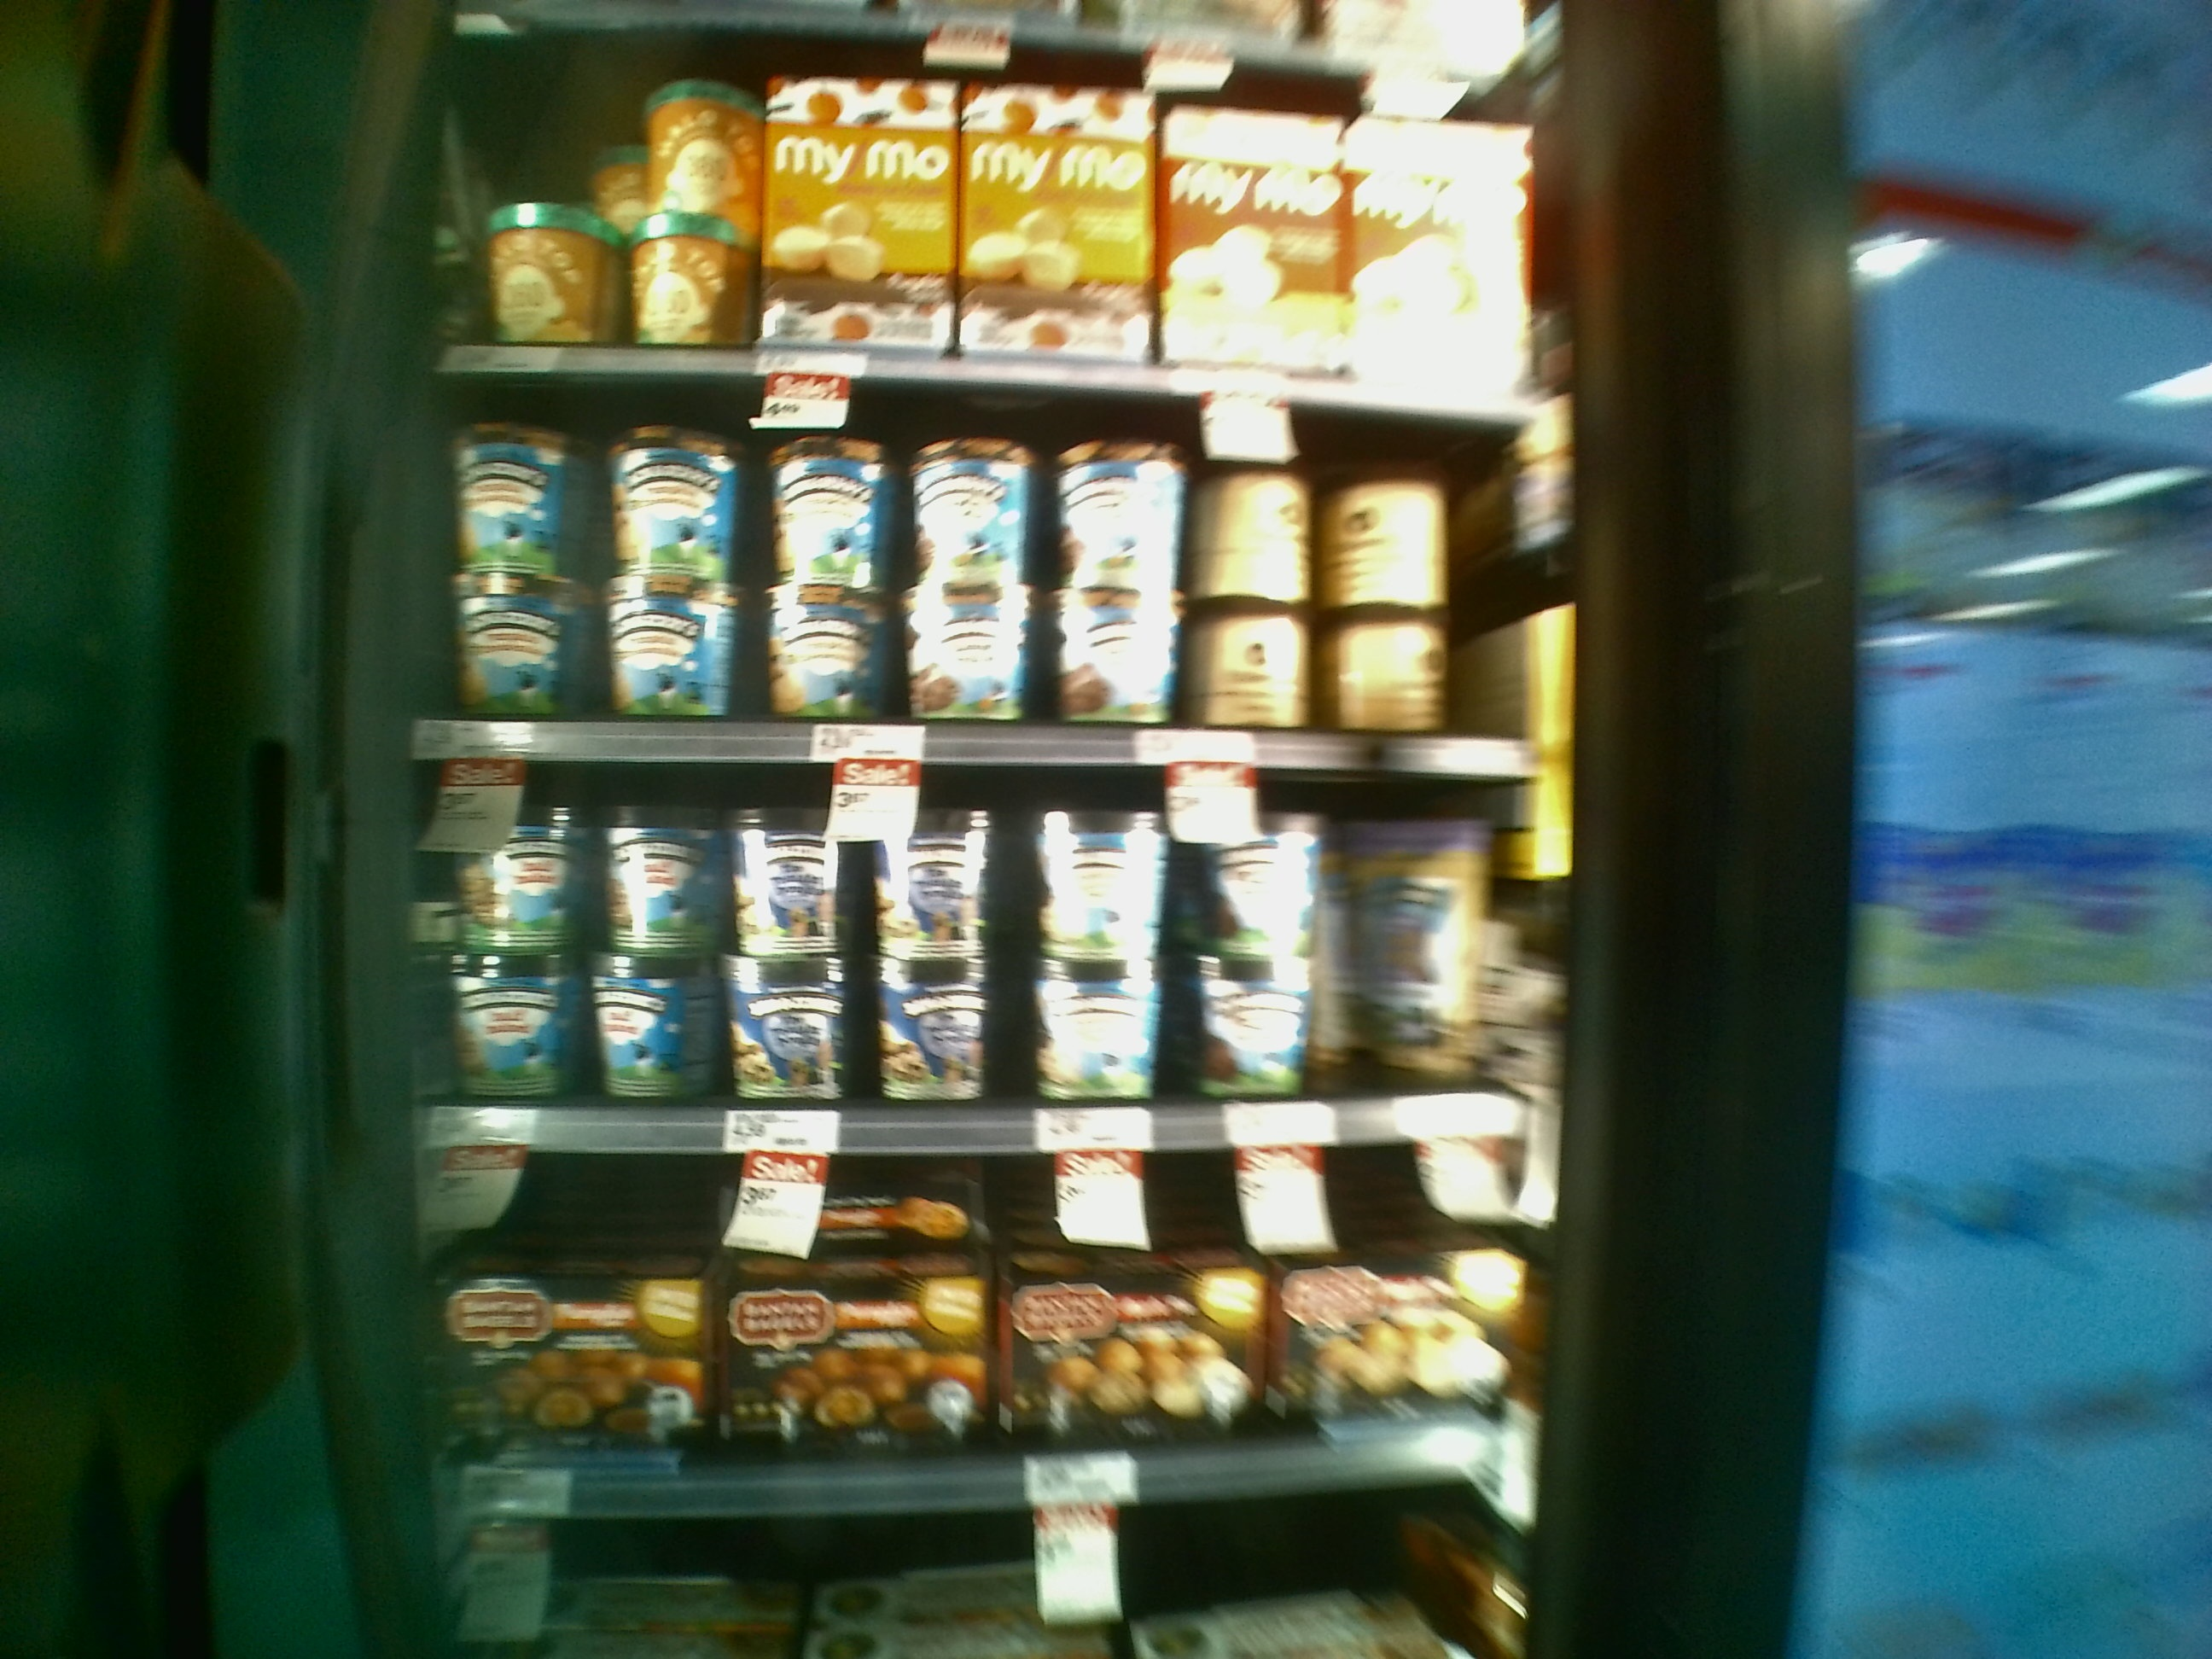shelf: (376, 723, 1554, 1134), (418, 349, 1541, 765), (381, 1122, 1524, 1474)
